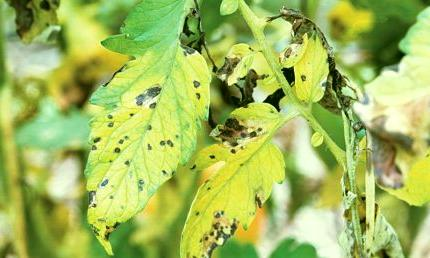Tomato leaf bacterial spot: (85, 43, 207, 244), (185, 104, 292, 258)
